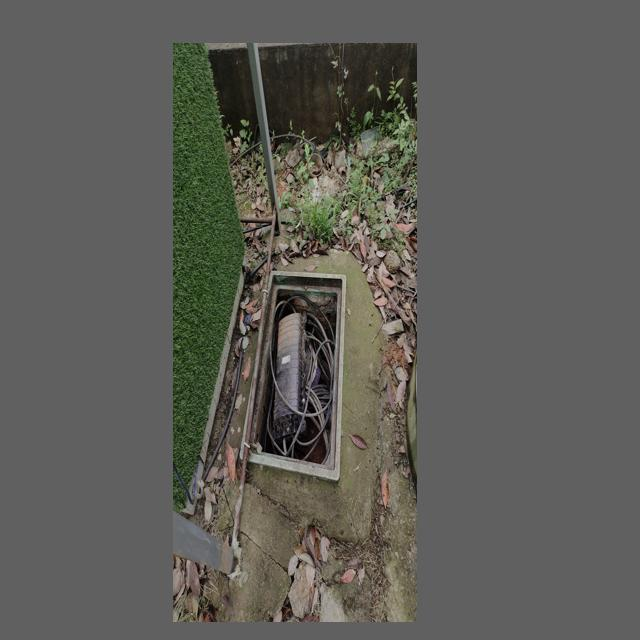lose: (239, 269, 345, 484)
